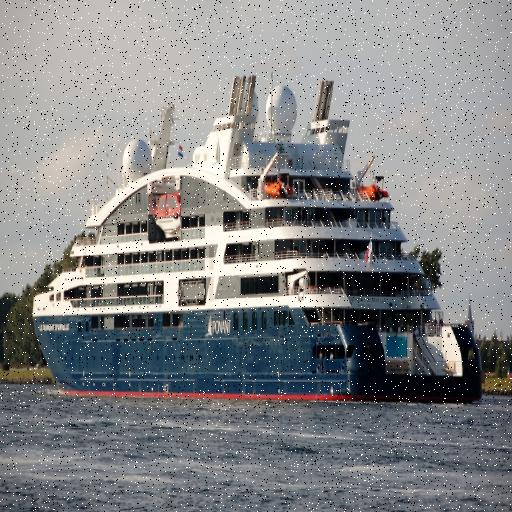cruises: (29, 69, 487, 409)
